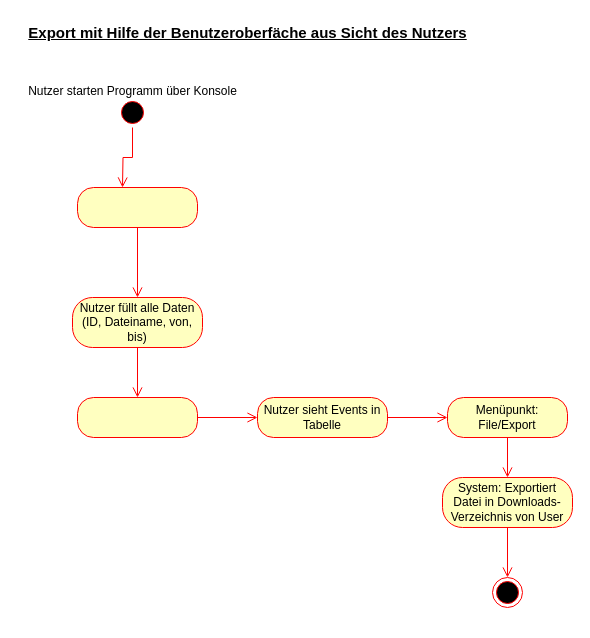
Image size: 590x638. Some labels were removed from this diagram. The shapes that lost their labels are listed below. From the top down, each one's centre as x and y in pixels, then its label:
At [137,207]: "Menüpunkt: Application/Settings".
At [137,417]: "System: überprüft alle Daten".
At [507,592]: "Export abgeschlossen".
